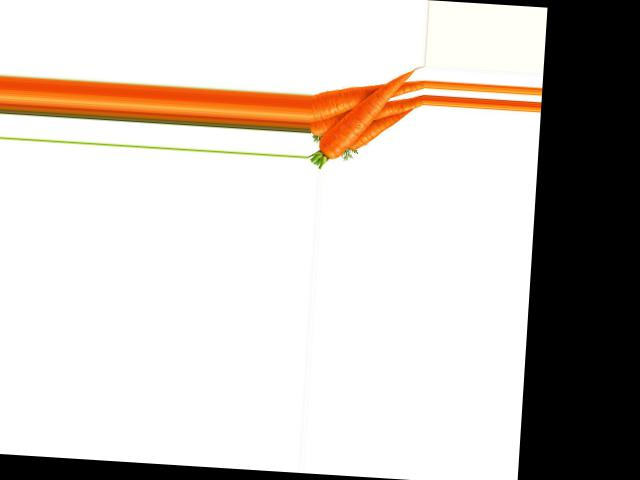carrot: (310, 86, 397, 125)
